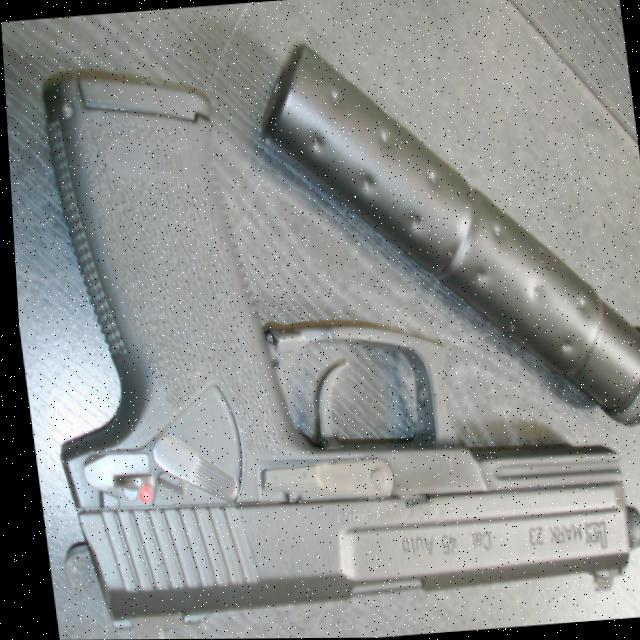pistol: (9, 38, 640, 631)
